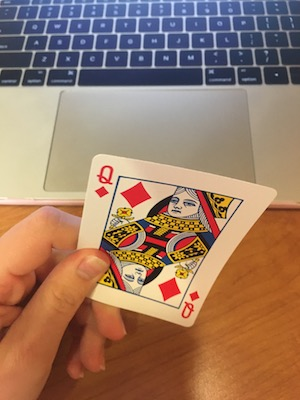QueenOfDiamonds: (60, 149, 278, 335)
